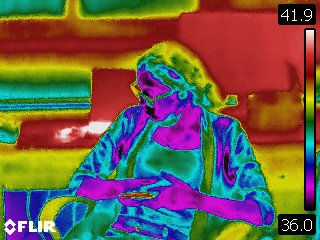human: (63, 40, 277, 240)
